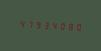eight: (65, 20, 72, 32)
four: (49, 19, 56, 31), (17, 18, 24, 29)
nine: (33, 19, 40, 30)
seven: (25, 18, 32, 30)
three: (41, 19, 48, 30)
zero: (57, 20, 64, 31), (73, 21, 80, 32)
